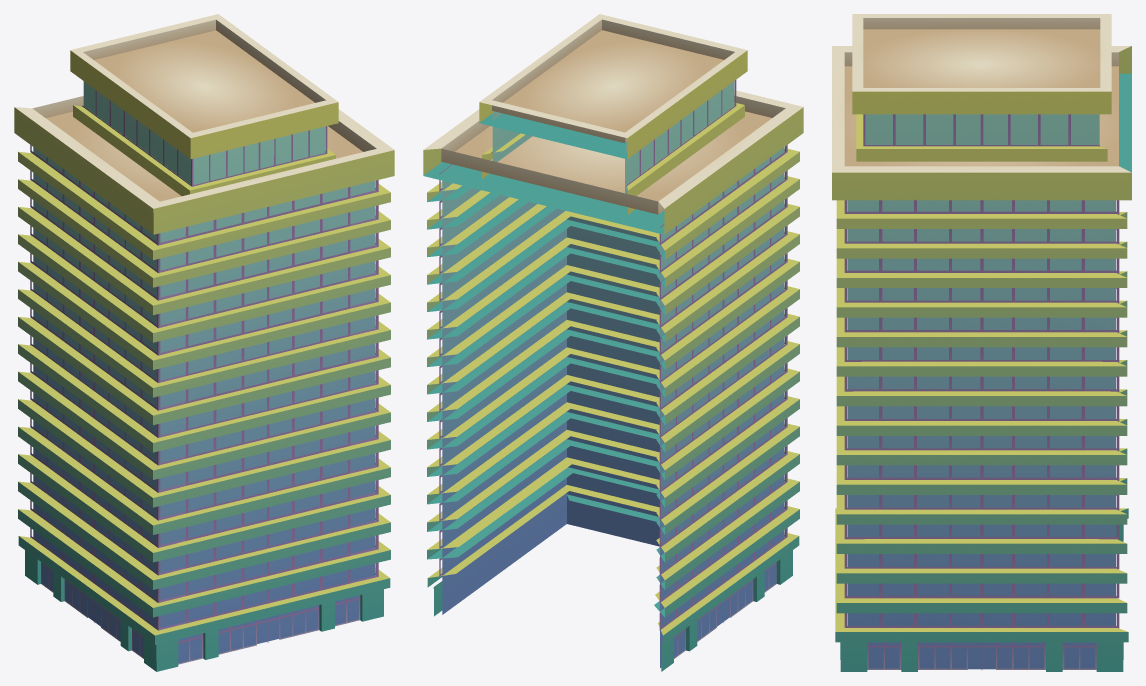
3 renders of one model, left to right at view 1: azimuth 30°, elevation 25°; view 2: azimuth 150°, elevation 25°; view 3: azimuth 270°, elevation 25°, orthographic. The views are drawn at different scales.
Visible parts, largest first — view 1: SM_17F_04; view 2: SM_17F_04; view 3: SM_17F_04.
Boxes of the visible parts, bbox=[...] form: SM_17F_04: bbox=[14, 14, 394, 671]; SM_17F_04: bbox=[423, 14, 803, 671]; SM_17F_04: bbox=[832, 14, 1131, 671].
Size of the model in its own units: 28.52 by 58.76 by 28.52.
